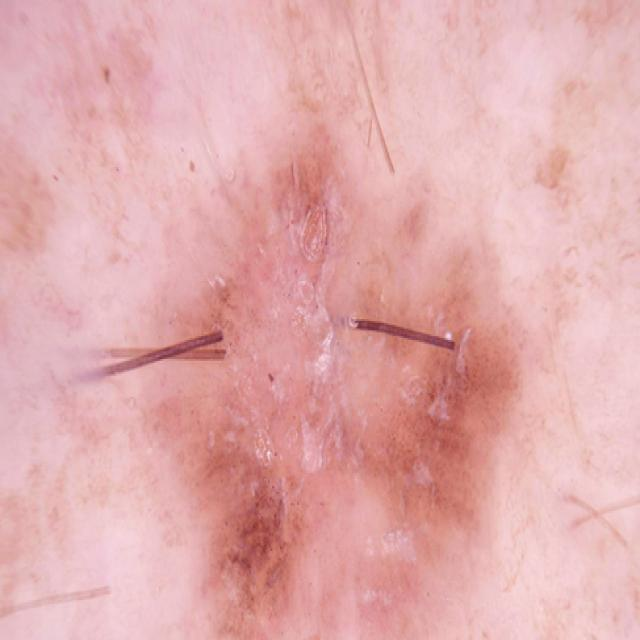Carcinoma: (124, 148, 522, 640)
